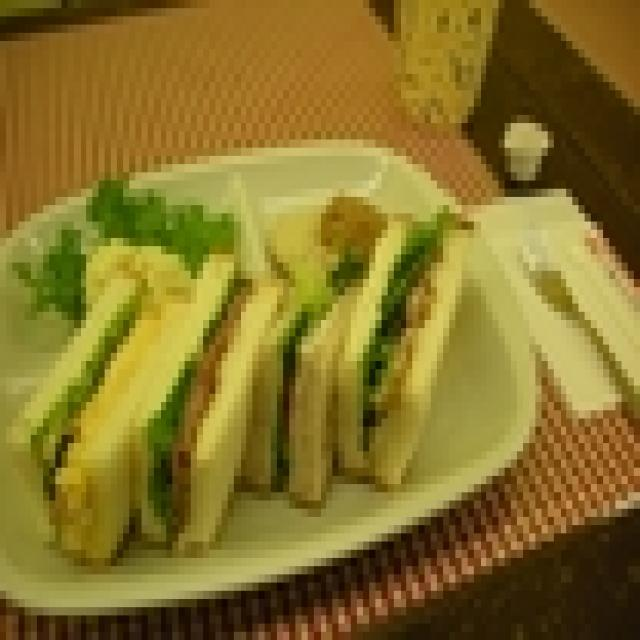三明治: (31, 197, 443, 509)
